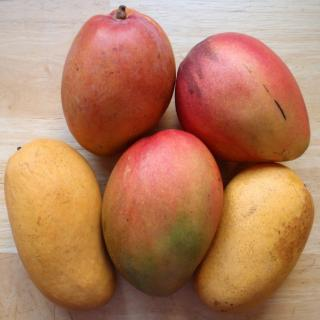Mango: (2, 7, 314, 310), (102, 130, 223, 297), (194, 161, 316, 312)
